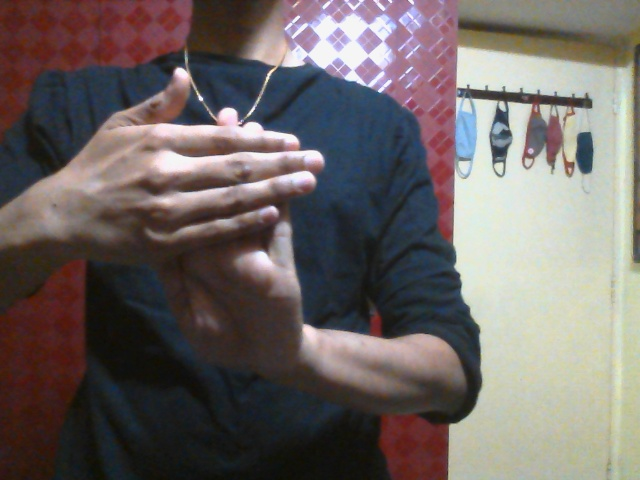H: (87, 66, 326, 371)
